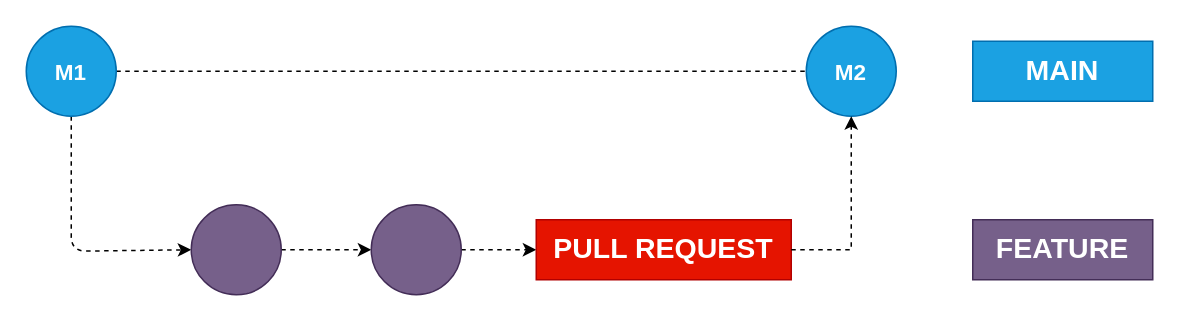
The diagram is 1179 pixels wide and 321 high, and some of its shapes have lost their labels. Each missing label, with the centre of its shape:
C1: [235,249]
C2: [415,249]
